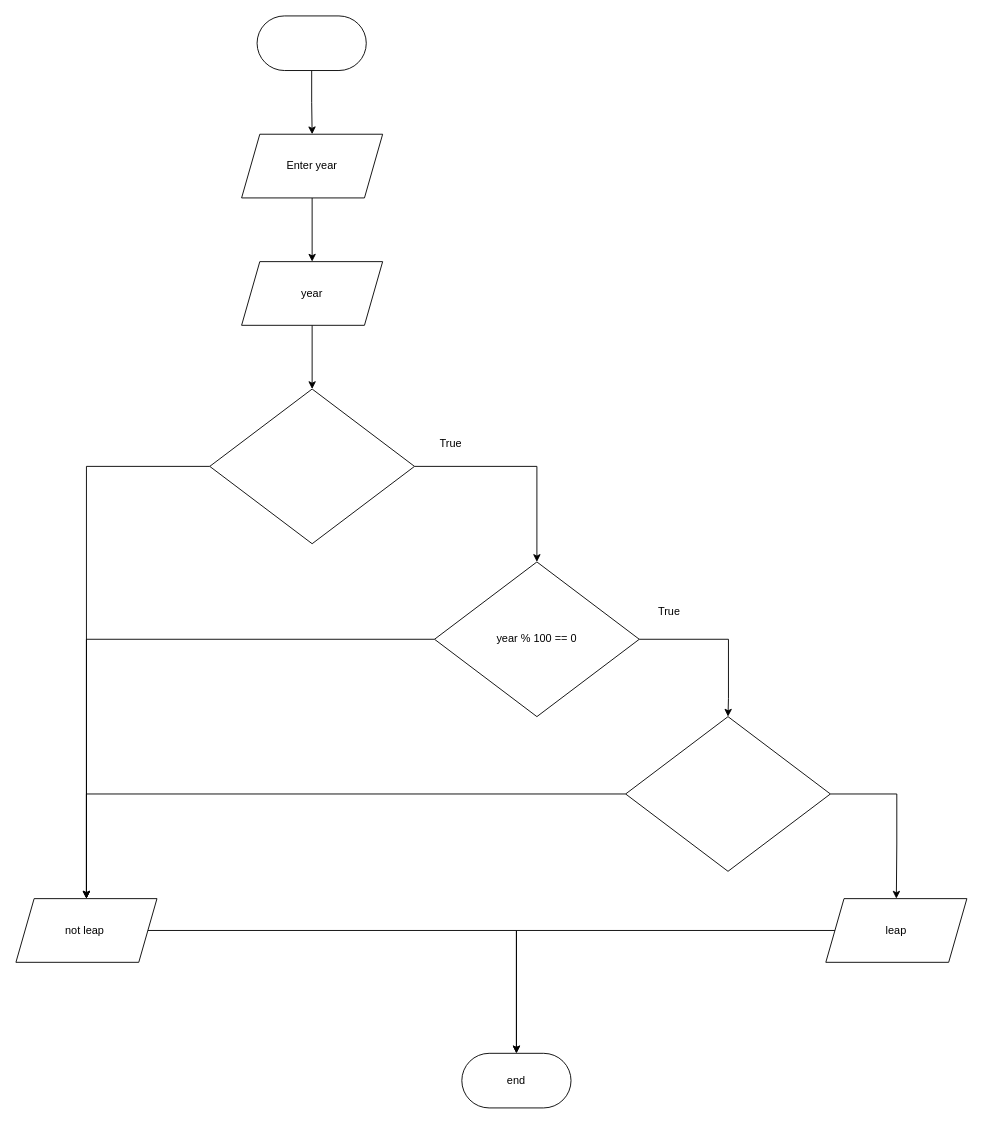
Image size: 983x1124. Some labels were removed from this diagram. Each missing label, with the box of its shape:
leap year check: (256, 15, 366, 71)
year % 4 == 0: (209, 388, 415, 544)
year % 400 == 0: (625, 716, 830, 871)
